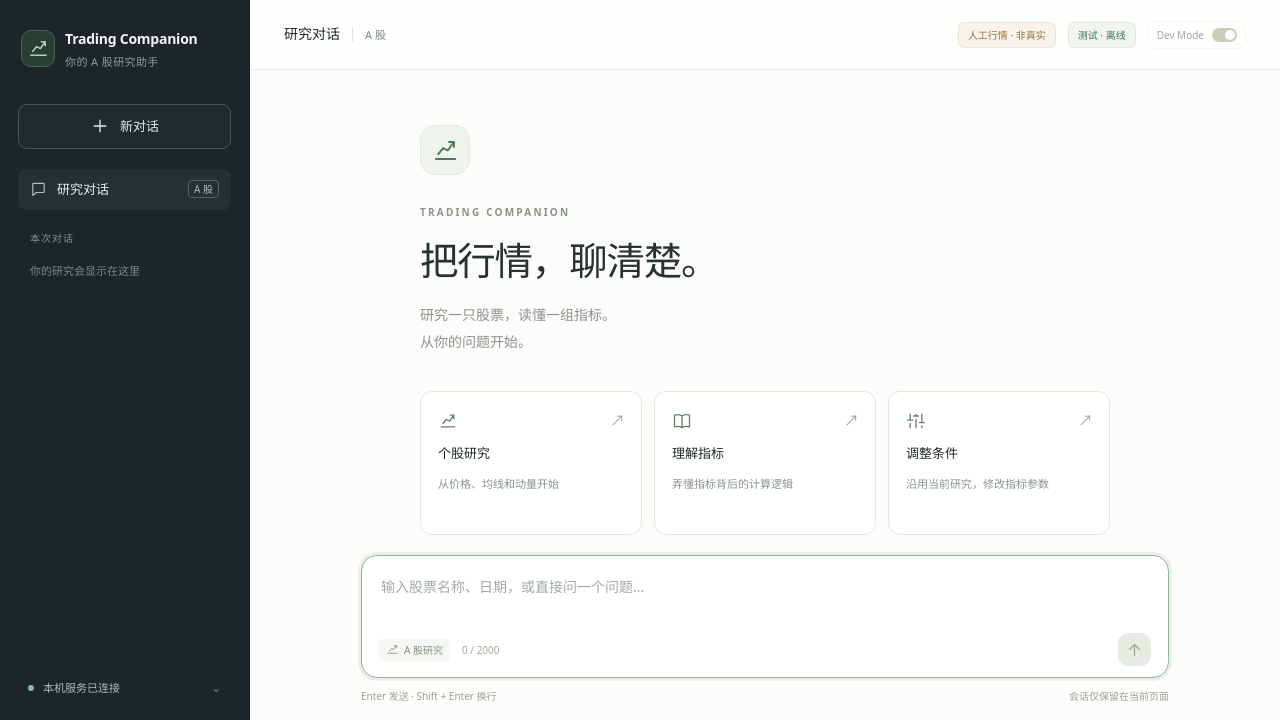
Test: conversation-first workspace › keeps session-creation failures visible without matching error-message keywords
Type "分析平安银行" into the text box named "研究问题" at (765, 599), box [379,572,1151,626]
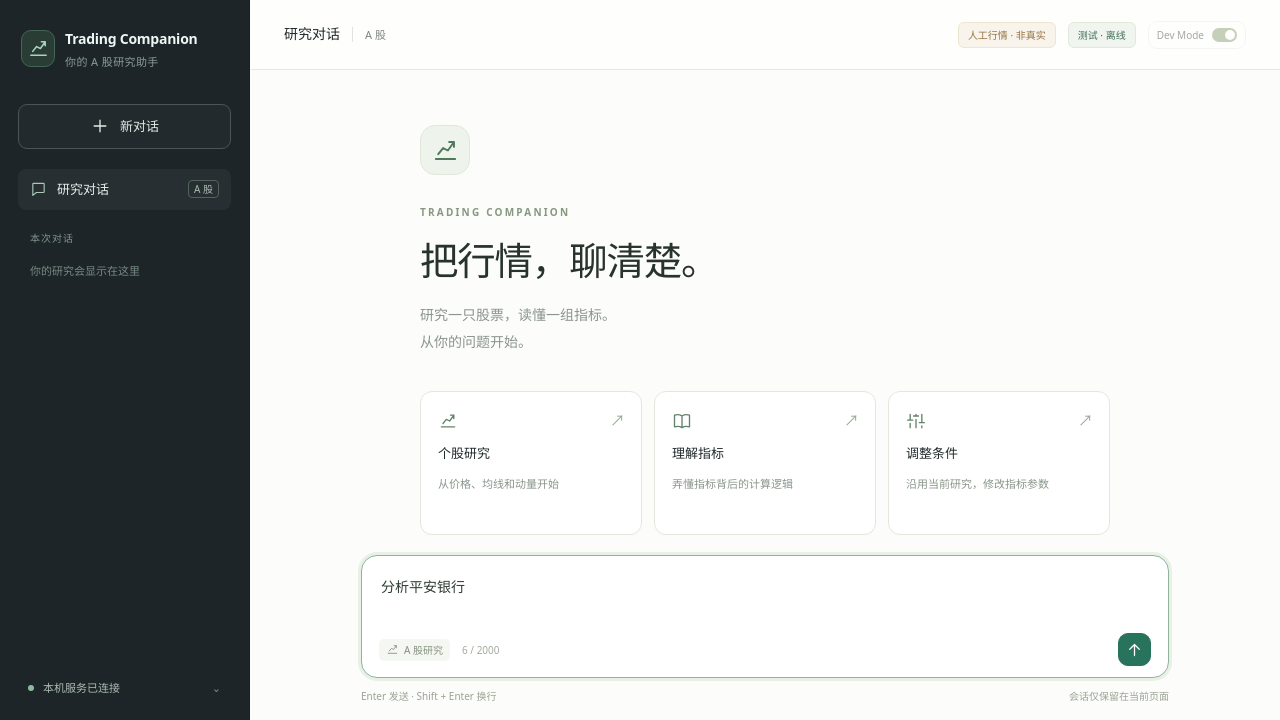
Click the button named "发送问题" at (1134, 650), box [1118,633,1151,666]
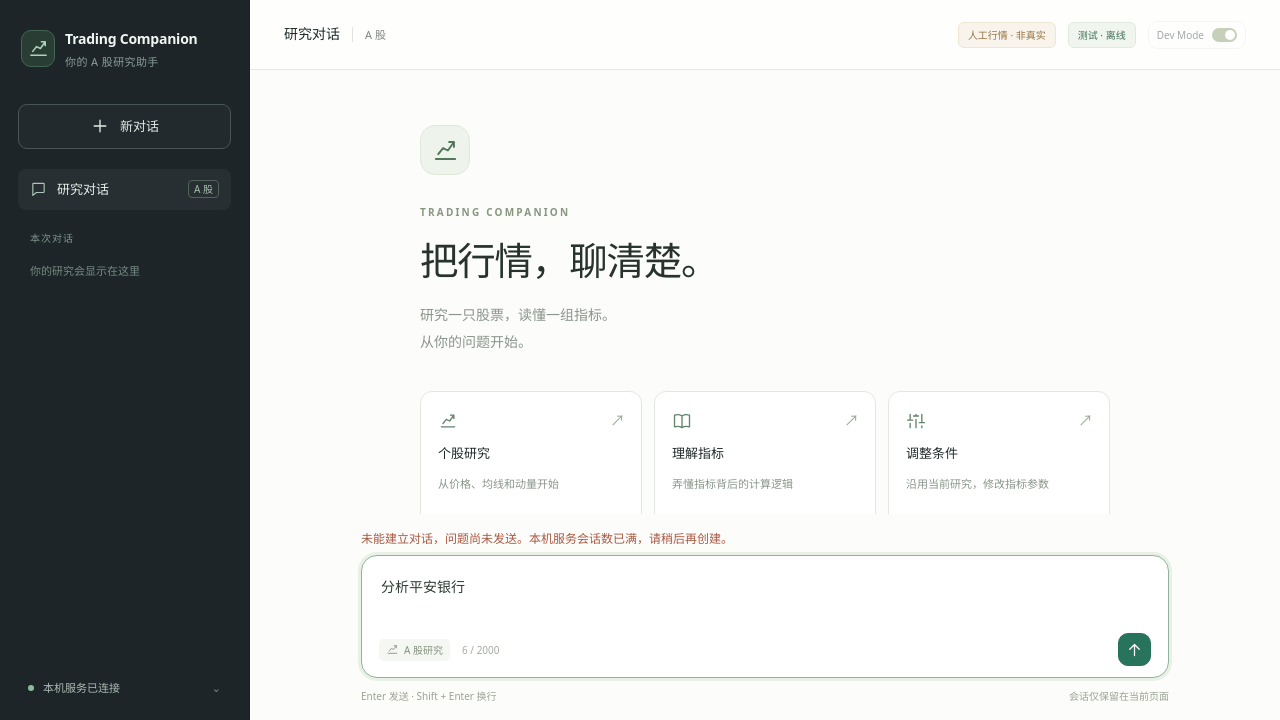
Now the message shows "本机服务会话数已满", box [361,530,733,547]
